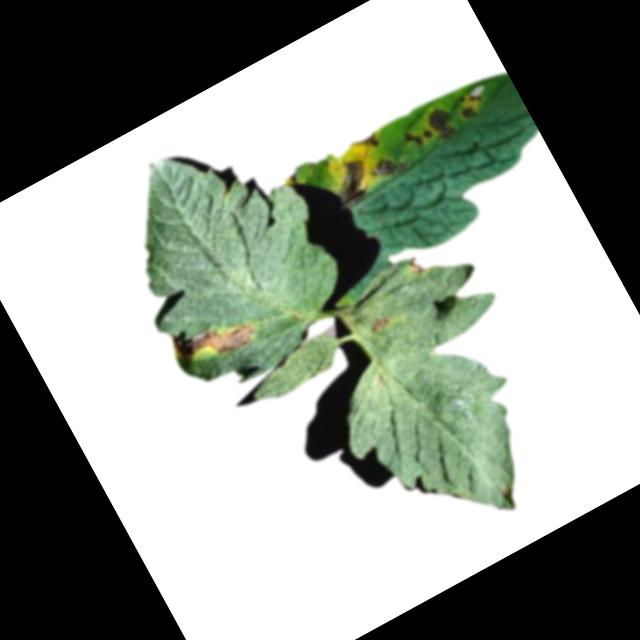Early_blight: (164, 291, 269, 376), (323, 155, 378, 211), (421, 98, 461, 142), (450, 79, 491, 121), (400, 118, 435, 152), (372, 151, 405, 183), (351, 127, 385, 157), (369, 308, 398, 334), (406, 252, 428, 277)
